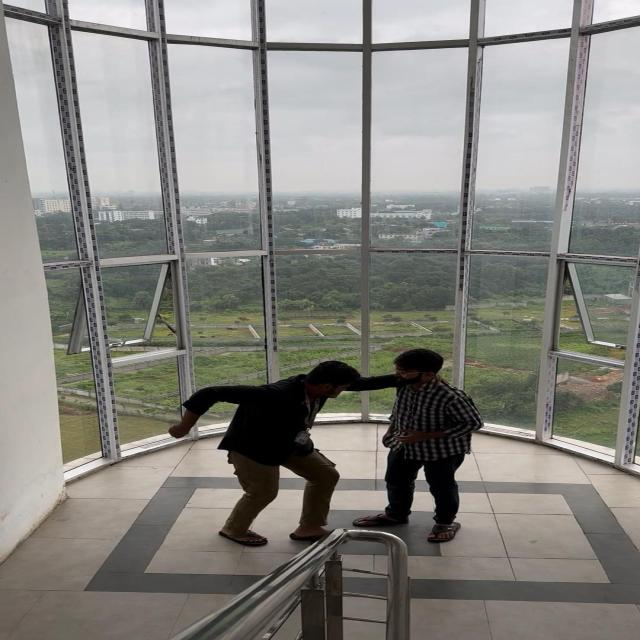fight: (161, 345, 522, 563)
